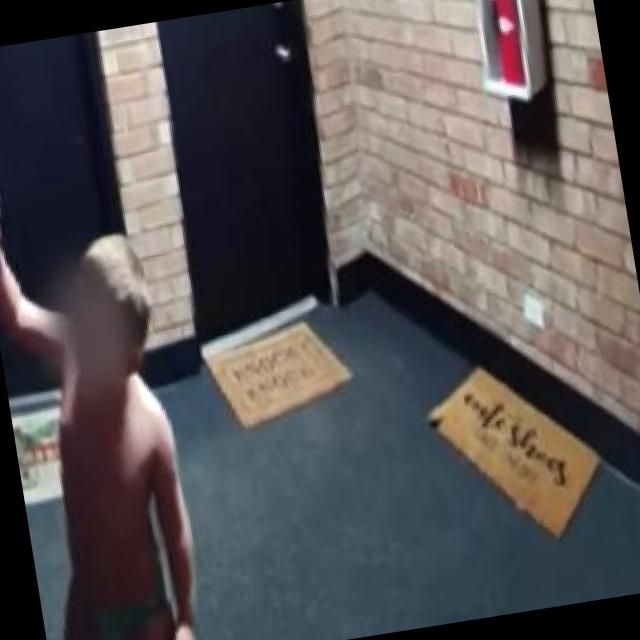Guns: (0, 134, 21, 281)
